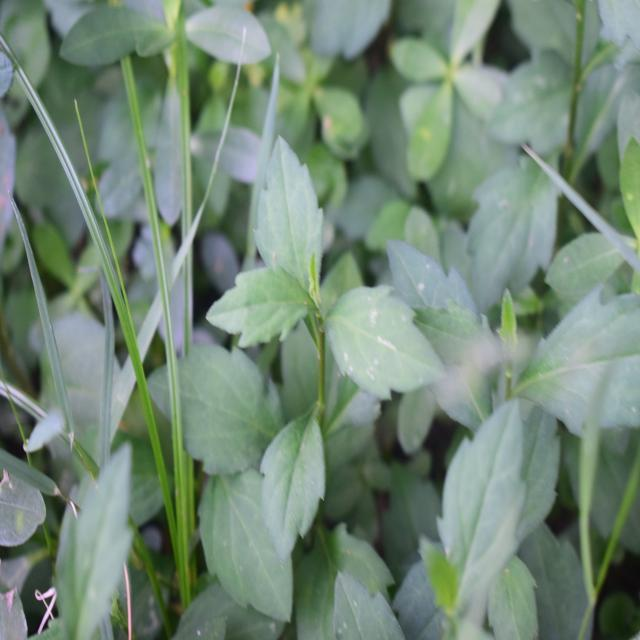Indian aster: (214, 164, 418, 541)
